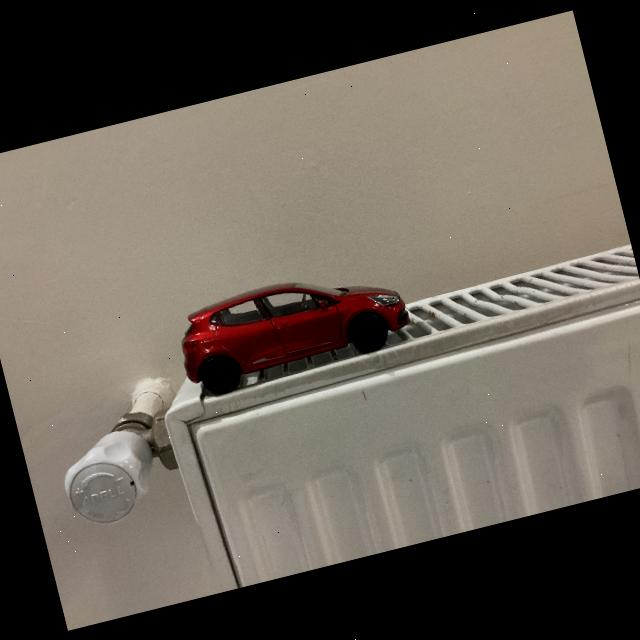Dogru_Jant: (204, 358, 238, 393), (352, 316, 385, 351)
